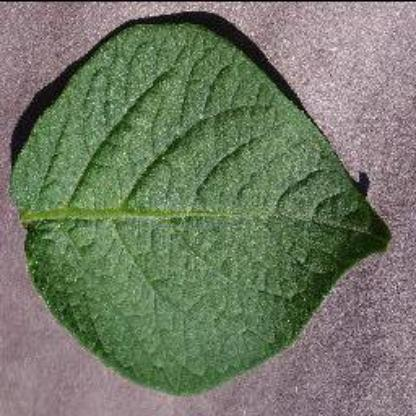Healthy-plant: (8, 17, 396, 395)
